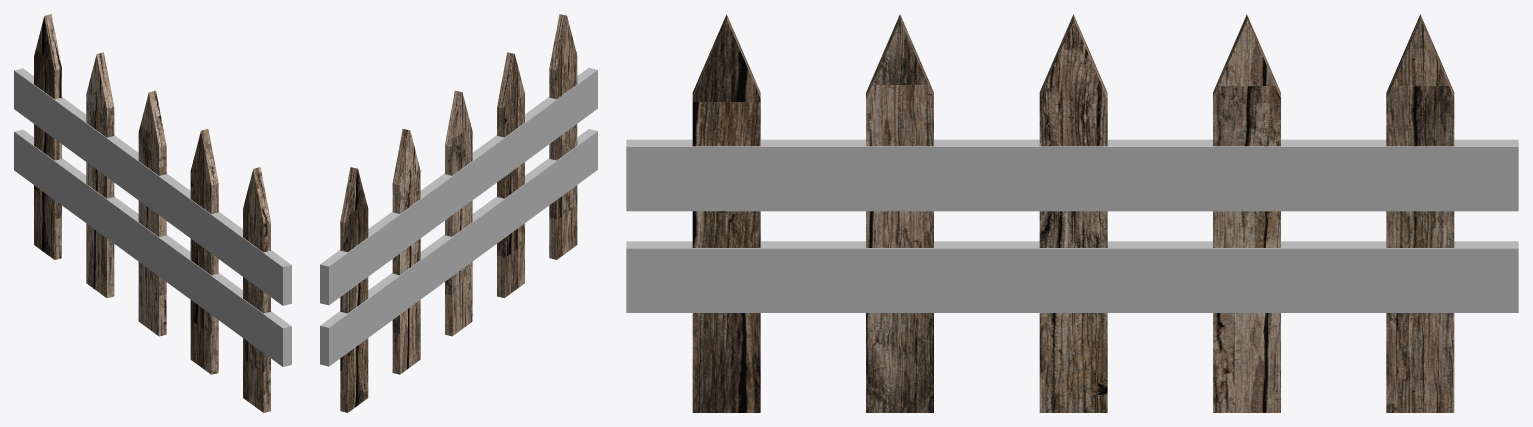
File: ExportedBlenderFBXFile.fbx
3 views of the same model, side by side, from view 1: azimuth 30°, elevation 25°; view 2: azimuth 150°, elevation 25°; view 3: azimuth 270°, elevation 25° (orthographic). The views are drawn at different scales.
Visible parts, largest first — view 1: Plane, Cube; view 2: Plane, Cube; view 3: Plane, Cube.
Part boxes in pixels (bbox=[...]): Plane: bbox=[14, 68, 291, 366]; Cube: bbox=[34, 14, 270, 412]; Plane: bbox=[320, 67, 597, 366]; Cube: bbox=[340, 14, 577, 412]; Plane: bbox=[626, 139, 1518, 312]; Cube: bbox=[692, 14, 1454, 412].
Size of the model in its own units: 0.1 by 2.5 by 5.15.
